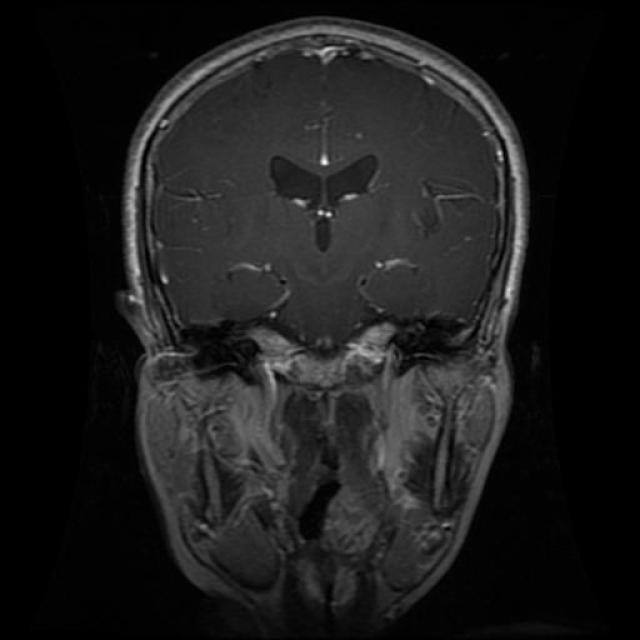glioma: (271, 154, 381, 254)
